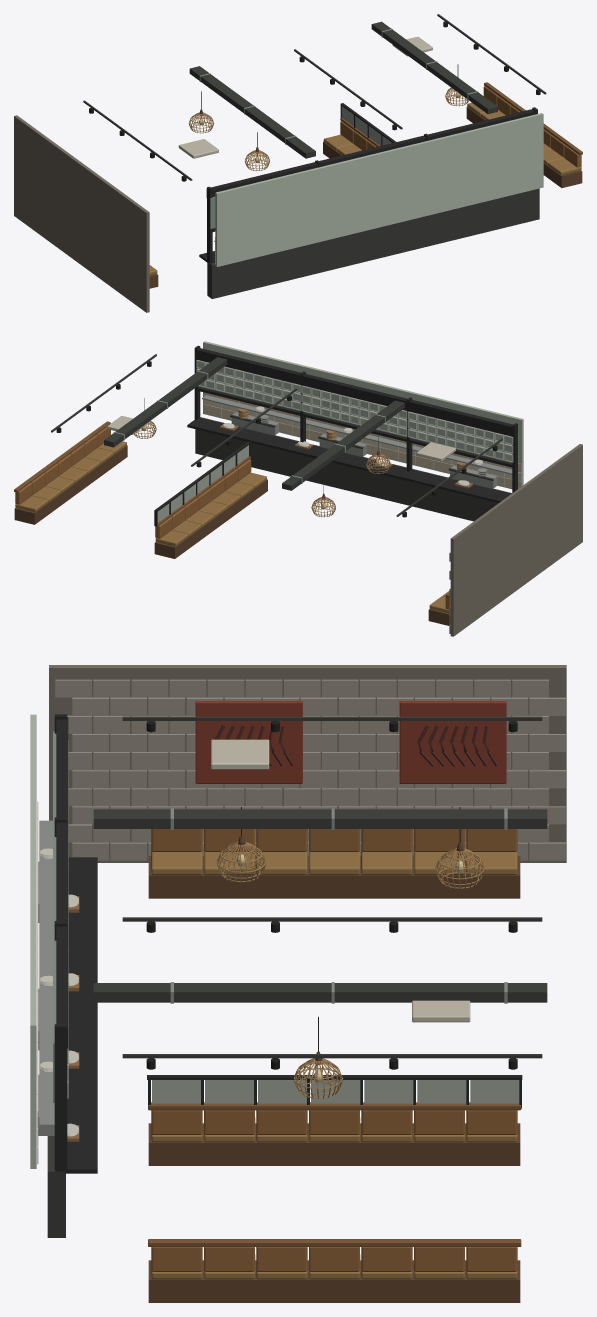
Rendered from dining.glb.
The picture shows the model from 3 angles, top to bottom: view 1: azimuth 30°, elevation 25°; view 2: azimuth 150°, elevation 25°; view 3: azimuth 270°, elevation 25°; orthographic projection. The views are drawn at different scales.
Visible parts, largest first — view 1: DimDimSumDiningHall; view 2: DimDimSumDiningHall; view 3: DimDimSumDiningHall.
Boxes of the visible parts, x1,y1,x2,y2 form: DimDimSumDiningHall: (14,14,582,312); DimDimSumDiningHall: (14,341,582,636); DimDimSumDiningHall: (30,665,566,1302).
Bounding box in the file's own units: 14.77 × 3.41 × 7.61.
